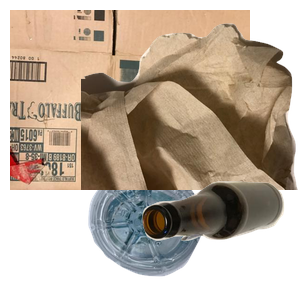cardboard: (10, 10, 250, 190)
glass: (140, 179, 300, 300)
plastic: (86, 163, 282, 300)
trash: (81, 21, 300, 201)
